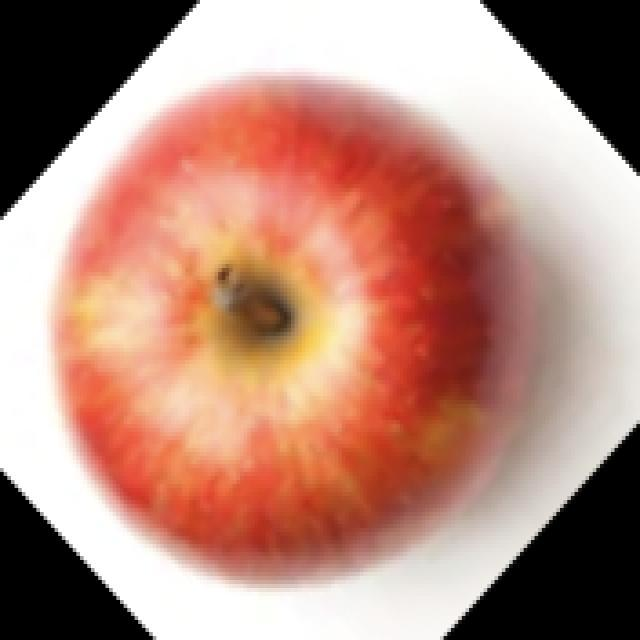Fresh Apple: (44, 67, 530, 595)
